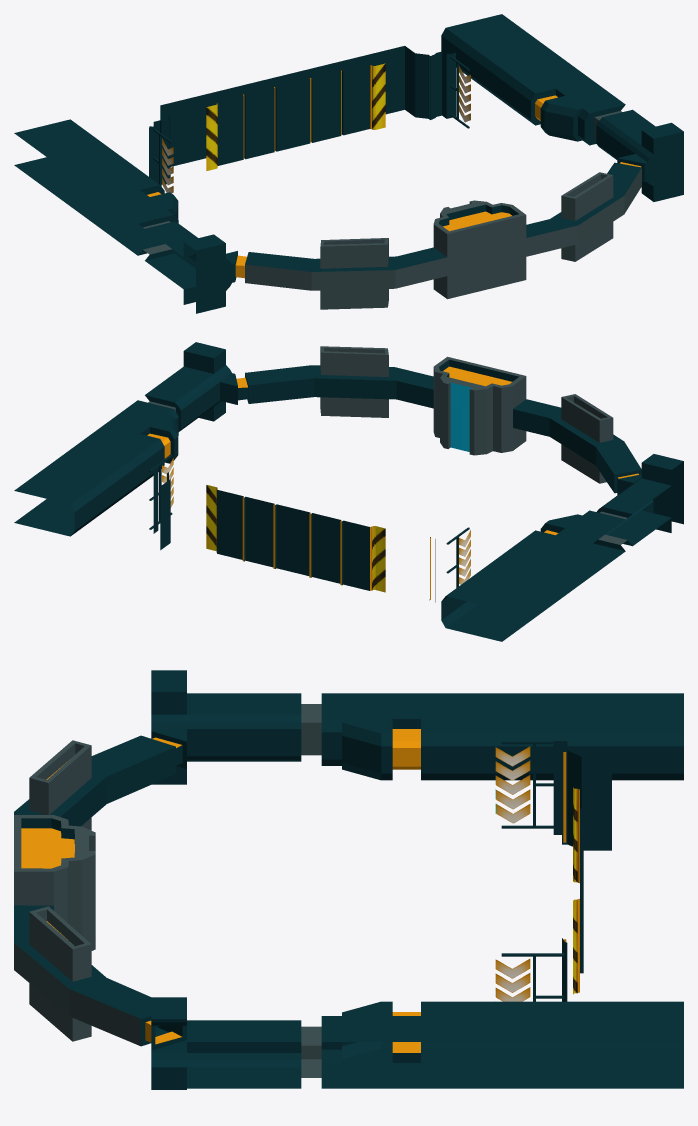
The model's file is Tunel_naranja.fbx.
3 renders of one model, top to bottom at view 1: azimuth 30°, elevation 25°; view 2: azimuth 150°, elevation 25°; view 3: azimuth 270°, elevation 25°, orthographic. The views are drawn at different scales.
Visible parts, largest first — view 1: Pista_naranja.001; view 2: Pista_naranja.001; view 3: Pista_naranja.001.
Part boxes in pixels (x1,y1,x2,y2): Pista_naranja.001: [14, 14, 683, 313]; Pista_naranja.001: [14, 342, 683, 641]; Pista_naranja.001: [14, 670, 683, 1089].
Size of the model in its own units: 1594 by 203 by 1295.
